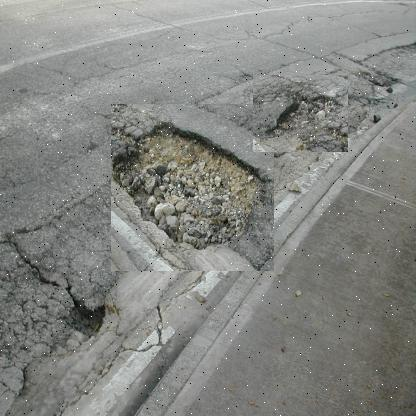crack: (0, 247, 131, 384)
pothole: (110, 104, 274, 272), (252, 75, 348, 153)
